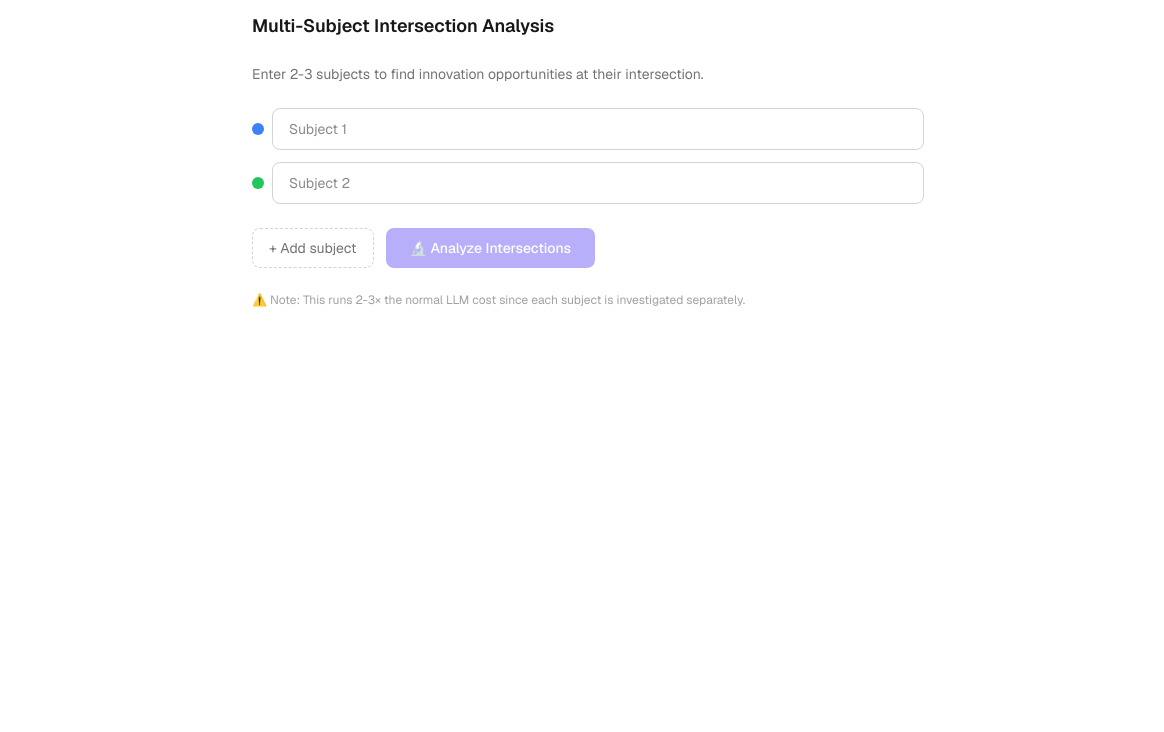
Test case: IntersectionAnalysis › handles 3-subject intersection analysis
This screenshot has width=1164, height=732.
Click the button "+ Add subject". click: (313, 248)
box: x1=252 y1=228 x2=374 y2=268
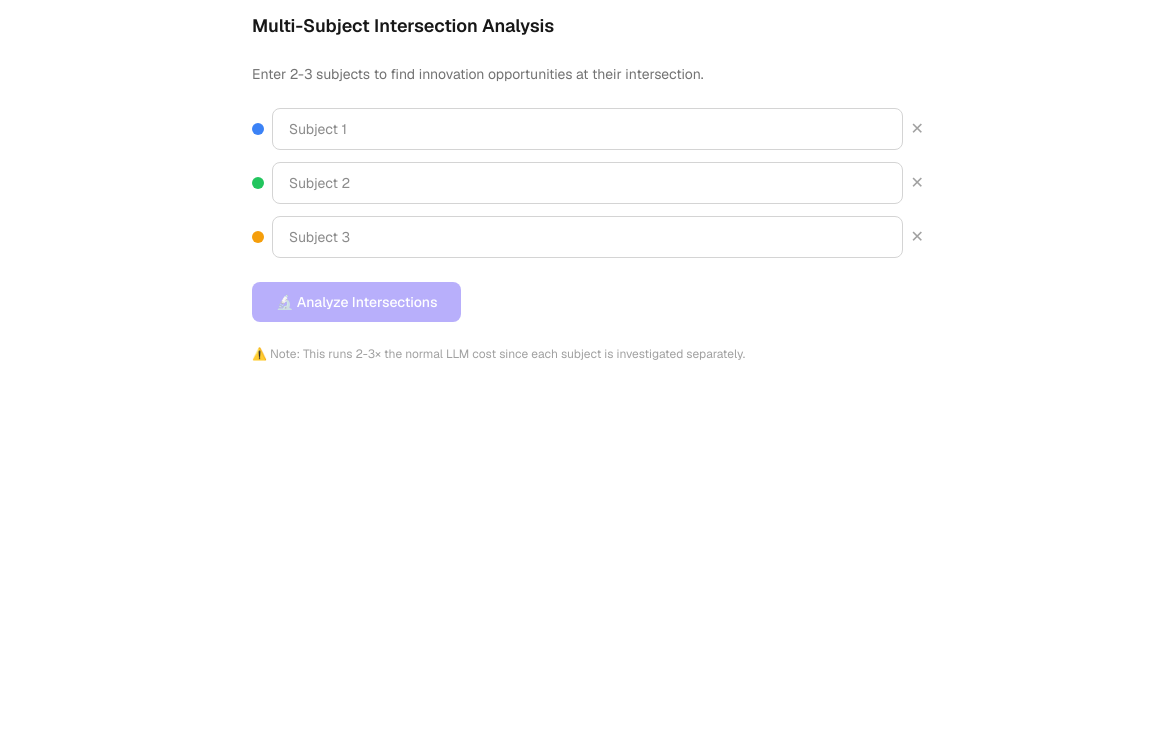
Type "AI" into the field with placeholder "Subject 1". click: (587, 129)
box: x1=272 y1=108 x2=903 y2=150
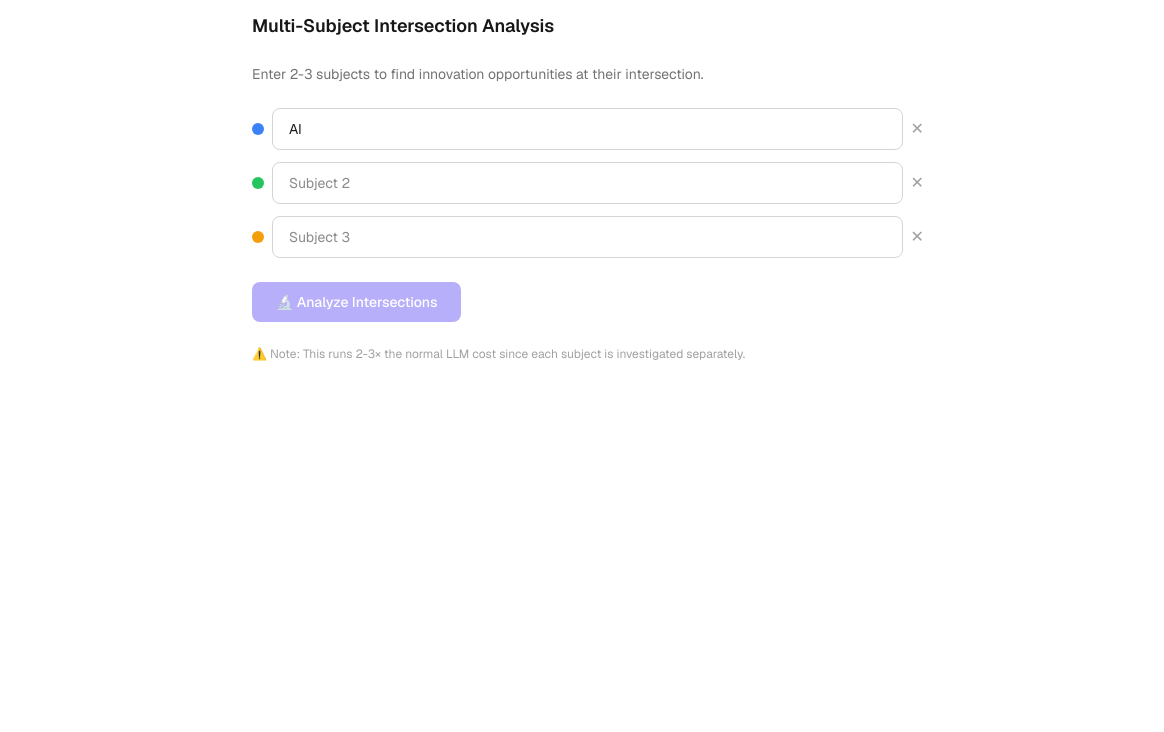
Type "Bio" into the field with placeholder "Subject 2". click: (587, 183)
box: x1=272 y1=162 x2=903 y2=204
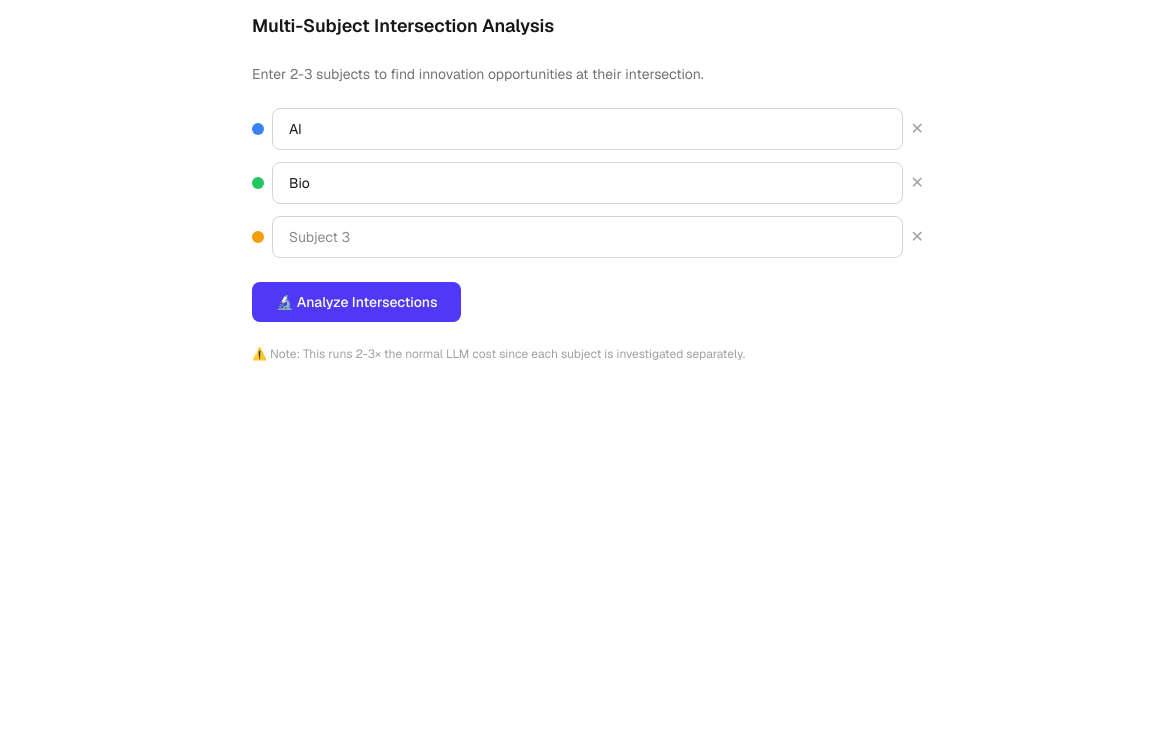
Type "Nano" into the field with placeholder "Subject 3". click: (587, 237)
box: x1=272 y1=216 x2=903 y2=258
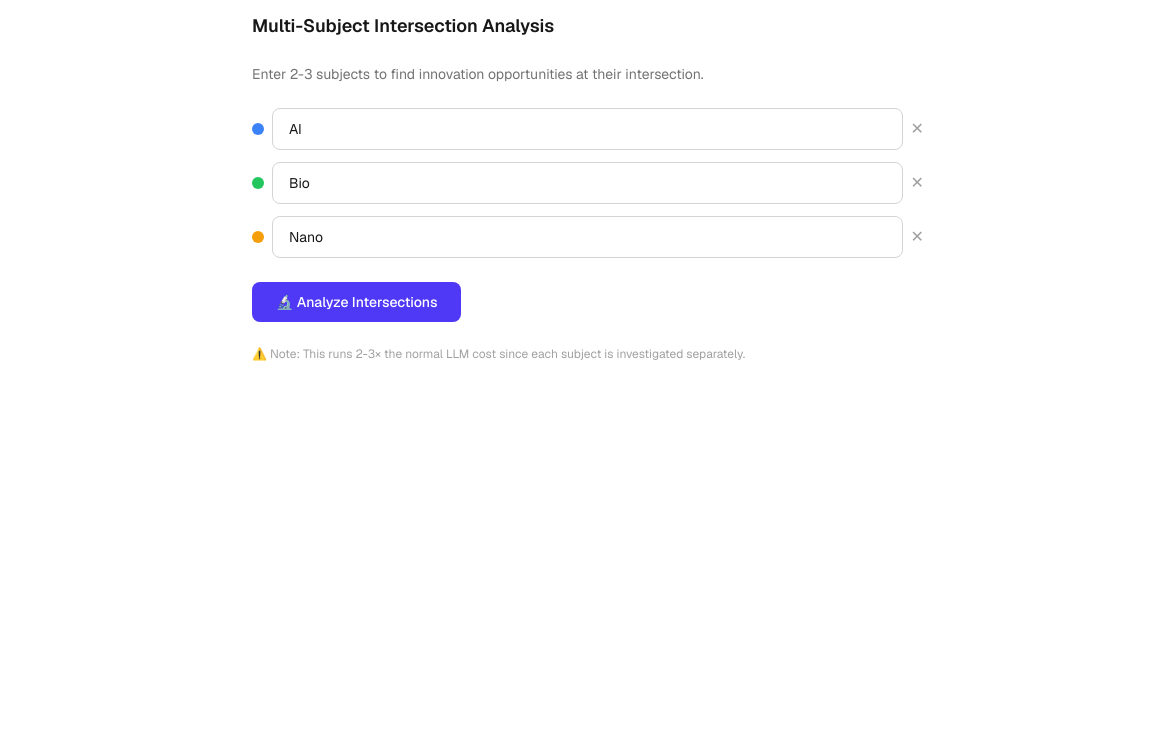
Click the button "🔬 Analyze Intersections". click: (357, 302)
box: x1=252 y1=282 x2=462 y2=322
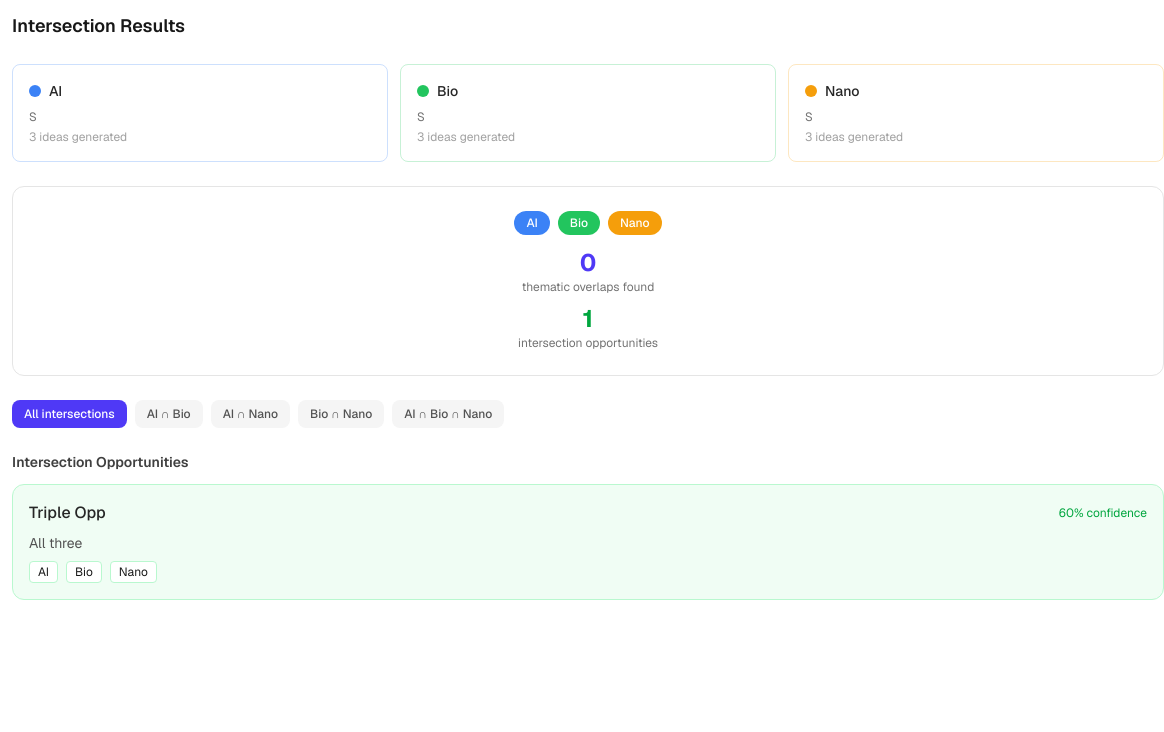
Expected: the heading "Triple Opp" is shown, x1=29 y1=501 x2=106 y2=525
